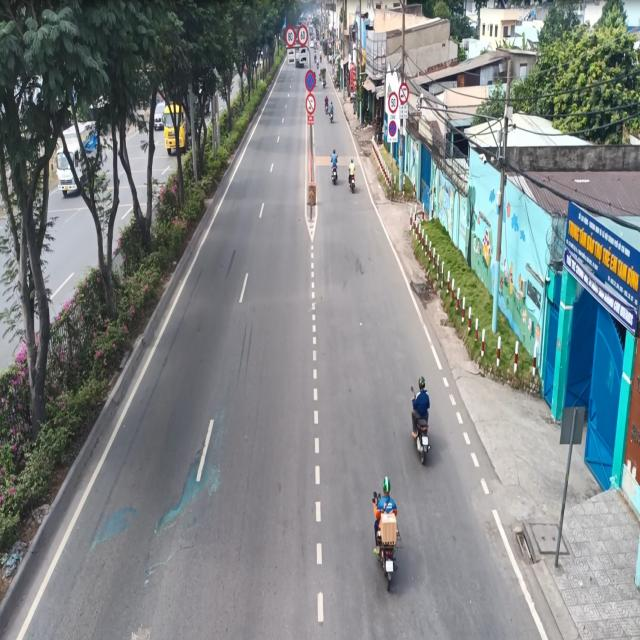motorbike: (367, 475, 406, 599), (406, 371, 432, 468), (328, 141, 340, 189), (344, 154, 356, 200)
